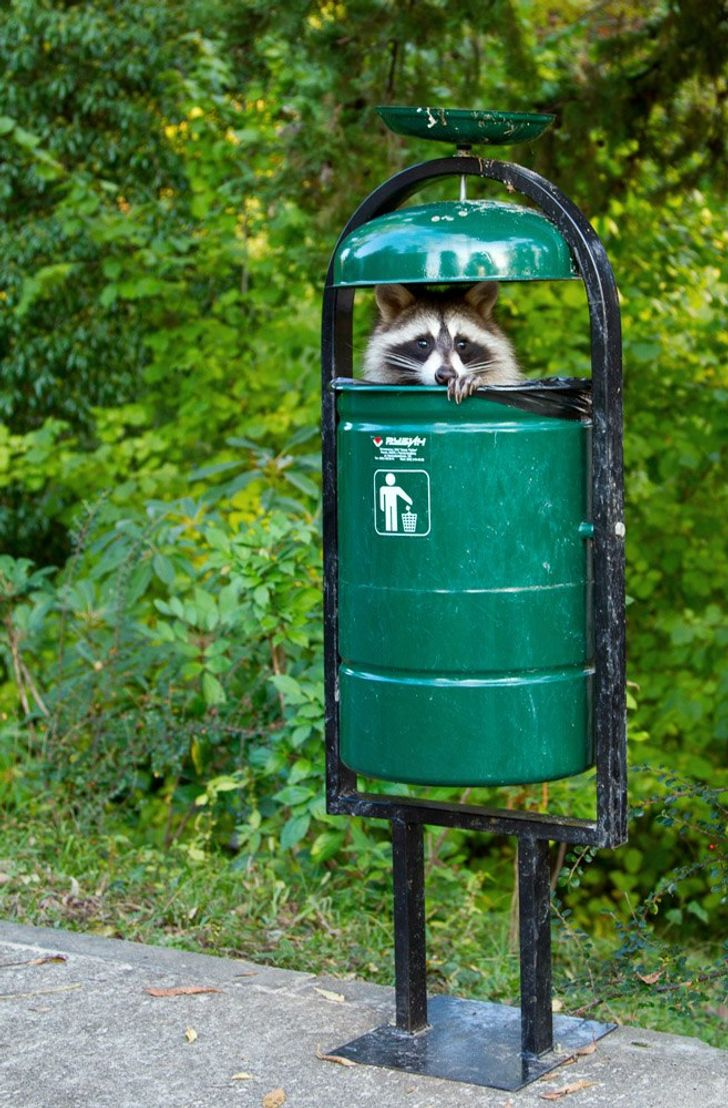raccoon: (359, 279, 521, 390)
